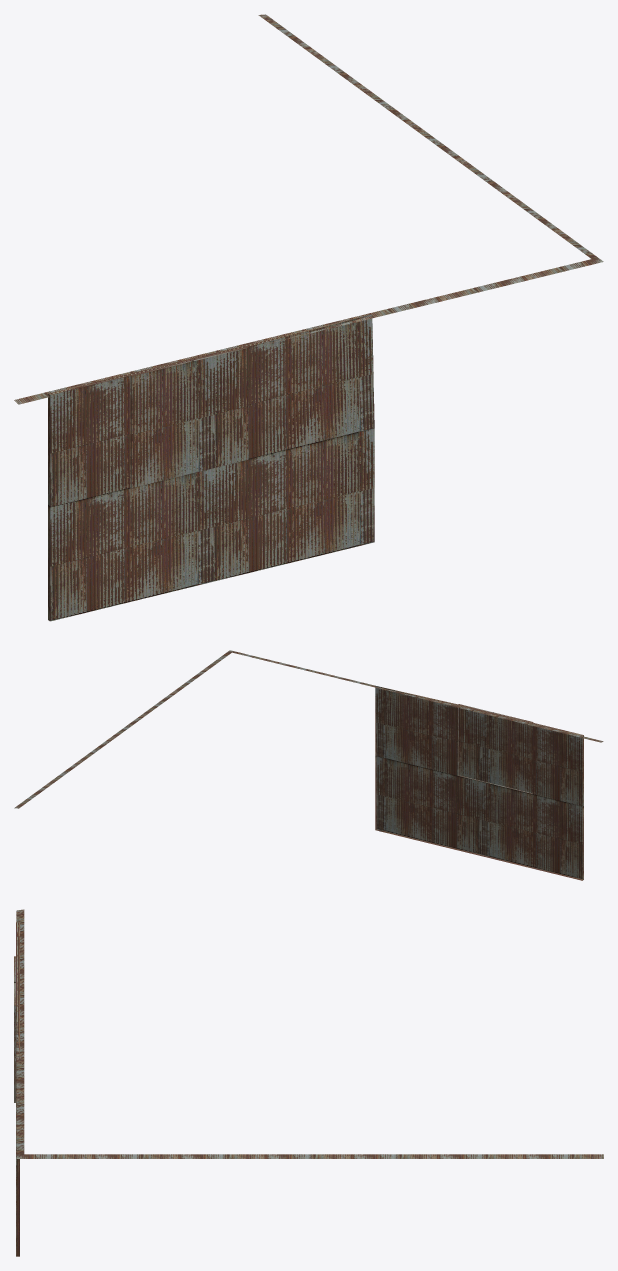
Rendered from warehousebrickc_id_6_metalcorrugateda_0_lev1.glb.
3 views of the same model, one above another, from view 1: azimuth 30°, elevation 25°; view 2: azimuth 150°, elevation 25°; view 3: azimuth 270°, elevation 25° (orthographic). The views are drawn at different scales.
Parts seen in each view (by area): view 1: warehousebrickc_id_6_metalcorrugateda_0_lev1; view 2: warehousebrickc_id_6_metalcorrugateda_0_lev1; view 3: warehousebrickc_id_6_metalcorrugateda_0_lev1.
Part boxes in pixels (x1,y1,x2,y2): warehousebrickc_id_6_metalcorrugateda_0_lev1: (14, 14, 603, 621); warehousebrickc_id_6_metalcorrugateda_0_lev1: (14, 650, 603, 880); warehousebrickc_id_6_metalcorrugateda_0_lev1: (14, 909, 603, 1256).
Bounding box in the file's own units: 5.8 × 2.14 × 5.82.
1 material, 1 textured.
